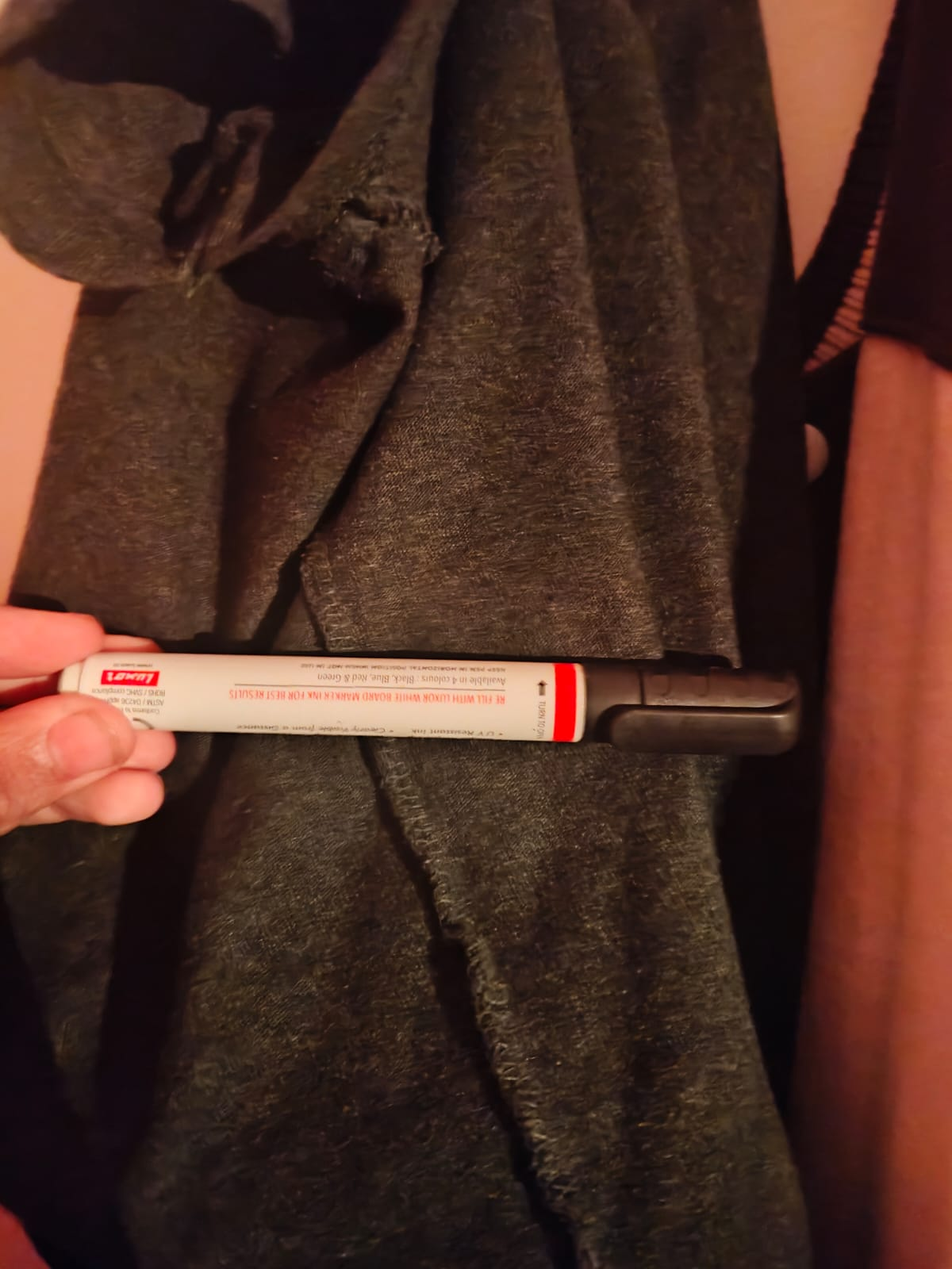case: (34, 627, 840, 786)
